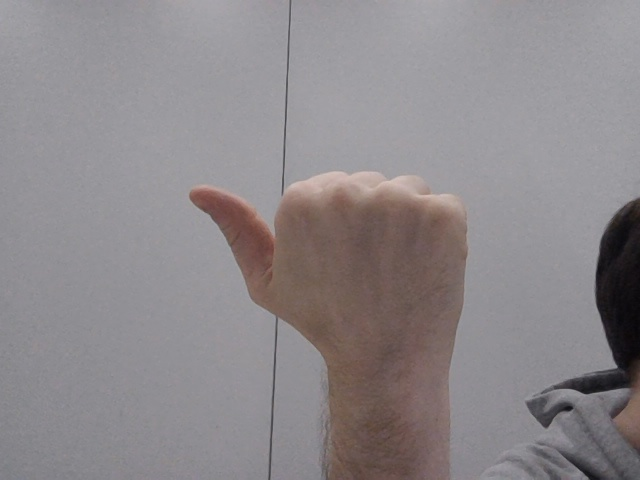right: (170, 132, 517, 383)
